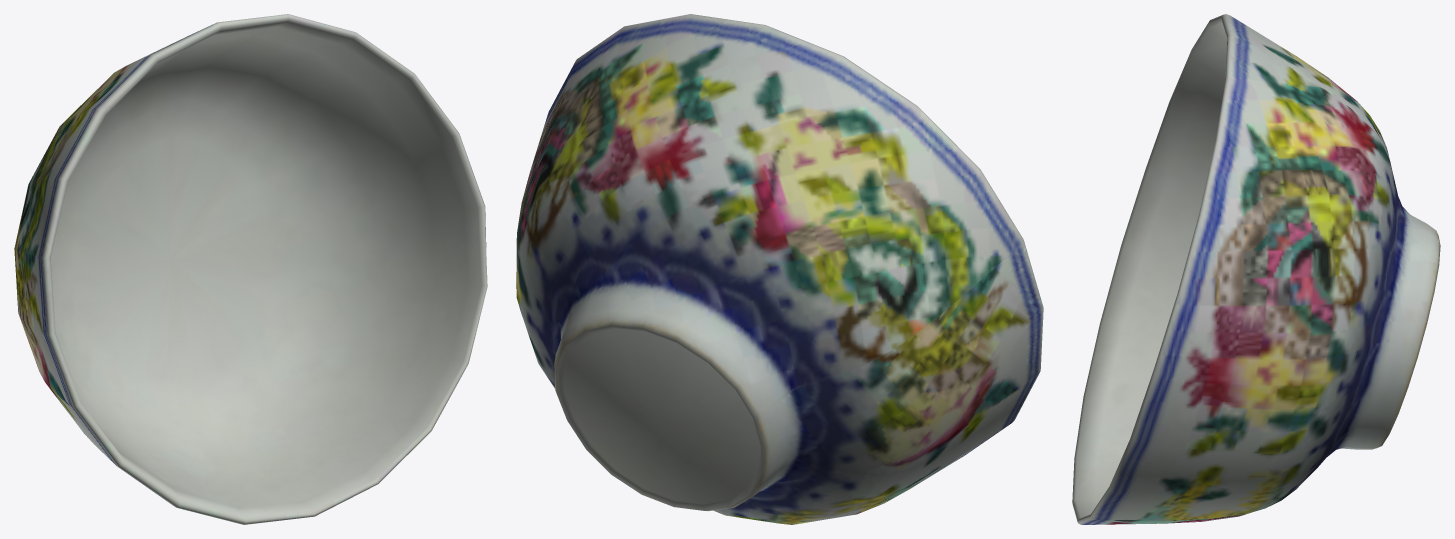
The model's file is ref_chinabowl.glb.
3 renders of one model, left to right at view 1: azimuth 30°, elevation 25°; view 2: azimuth 150°, elevation 25°; view 3: azimuth 270°, elevation 25°, orthographic. The views are drawn at different scales.
Parts seen in each view (by area): view 1: ref_chinabowl_part0; view 2: ref_chinabowl_part0; view 3: ref_chinabowl_part0.
Boxes of the visible parts, x1,y1,x2,y2 form: ref_chinabowl_part0: (14, 14, 487, 524); ref_chinabowl_part0: (516, 14, 1043, 524); ref_chinabowl_part0: (1072, 14, 1440, 524).
Size of the model in its own units: 1 by 0.9652 by 0.6961.
Materials: 1 (1 with a texture image).
